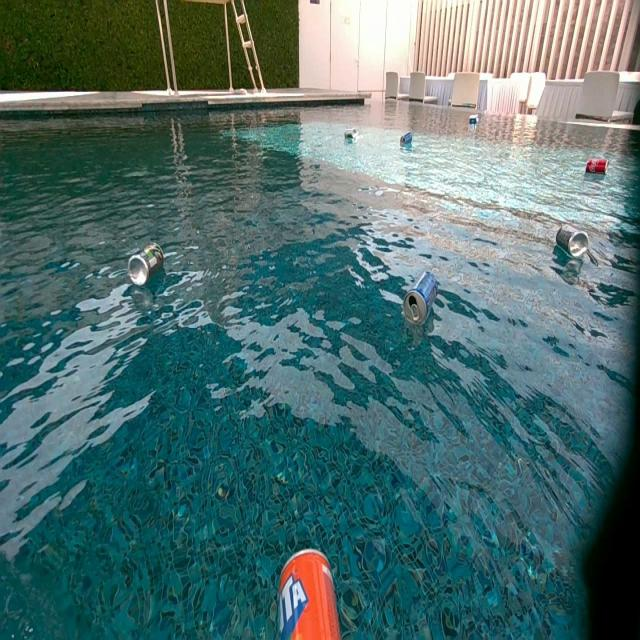Cans: (270, 548, 342, 638), (404, 269, 440, 325), (128, 245, 165, 288), (556, 225, 590, 257), (586, 160, 608, 177), (344, 130, 358, 144), (400, 132, 412, 146), (469, 115, 478, 125)
